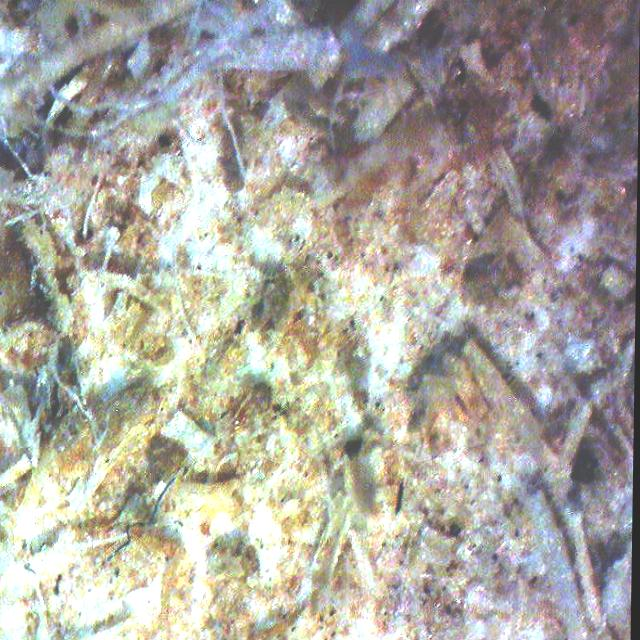microplastic: (111, 477, 177, 559)
